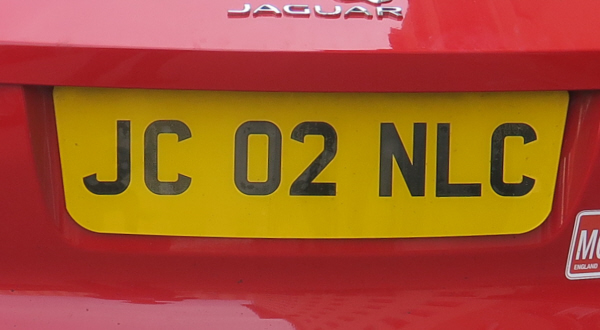license_plate: (50, 89, 570, 239)
